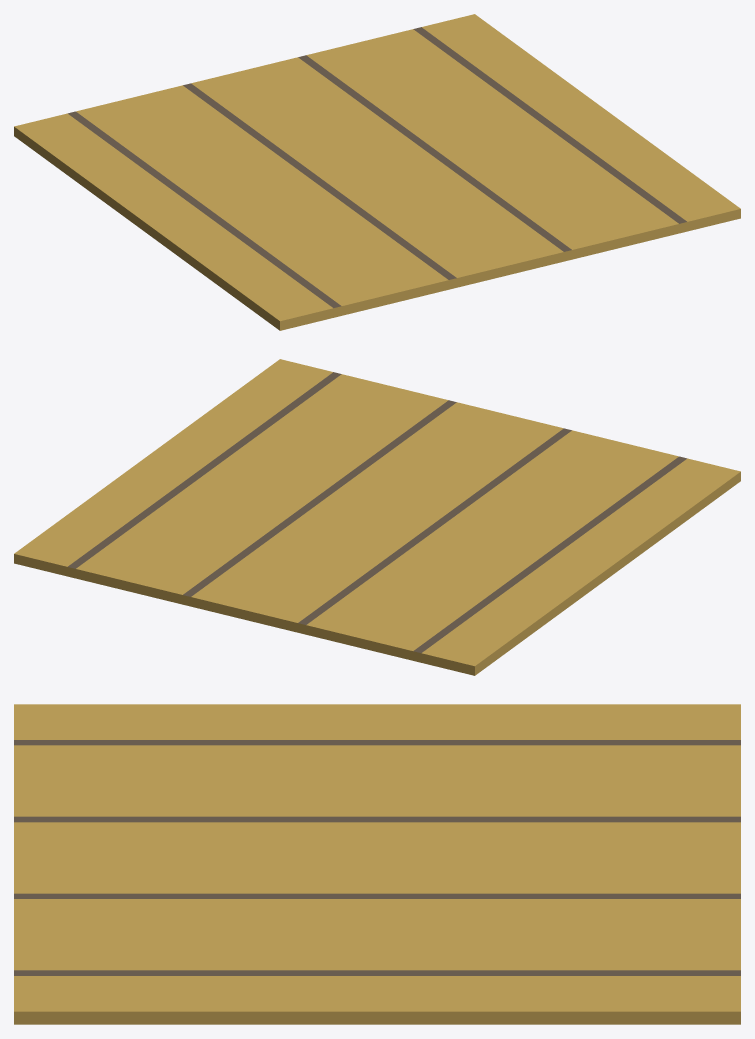
Rendered from far.fbx.
3 renders of one model, top to bottom at view 1: azimuth 30°, elevation 25°; view 2: azimuth 150°, elevation 25°; view 3: azimuth 270°, elevation 25°, orthographic. The views are drawn at different scales.
Visible parts, largest first — view 1: a1000/0/far; view 2: a1000/0/far; view 3: a1000/0/far.
Boxes of the visible parts, x1,y1,x2,y2 form: a1000/0/far: (14, 14, 740, 330); a1000/0/far: (14, 359, 740, 675); a1000/0/far: (14, 704, 740, 1024).
Bounding box in the file's own units: 50 × 1 × 50.
